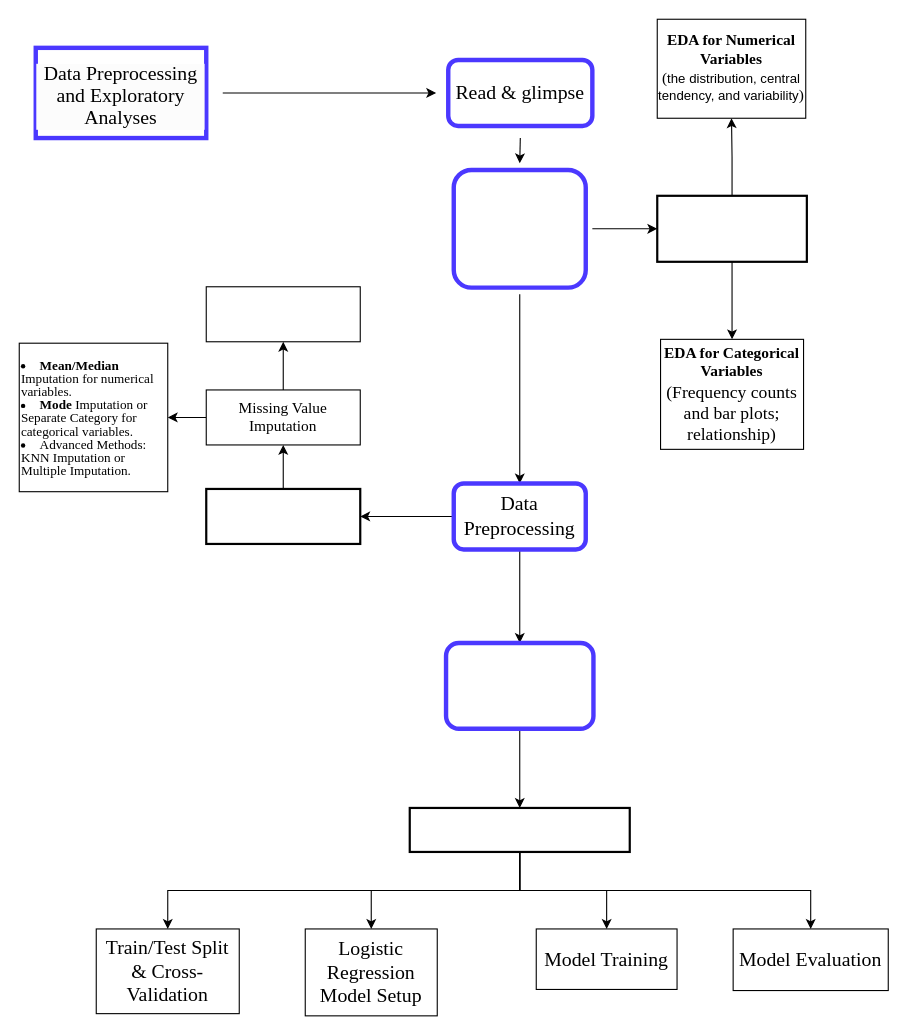
The diagram is 908 pixels wide and 1035 high, and some of its shapes have lost their labels. Each missing label, with the centre of its shape:
"Check Outcome Class Balance (proportion)" belongs at pixel 731 228.
"Data Type Conversion (correct format)" belongs at pixel 283 515.
"Exploratory Data Analysis (EDA)" belongs at pixel 519 228.
"Feature Engineering & Examine" belongs at pixel 282 314.
"Initial Class Distribution" belongs at pixel 519 829.
"Model training & evaluation" belongs at pixel 519 685.
